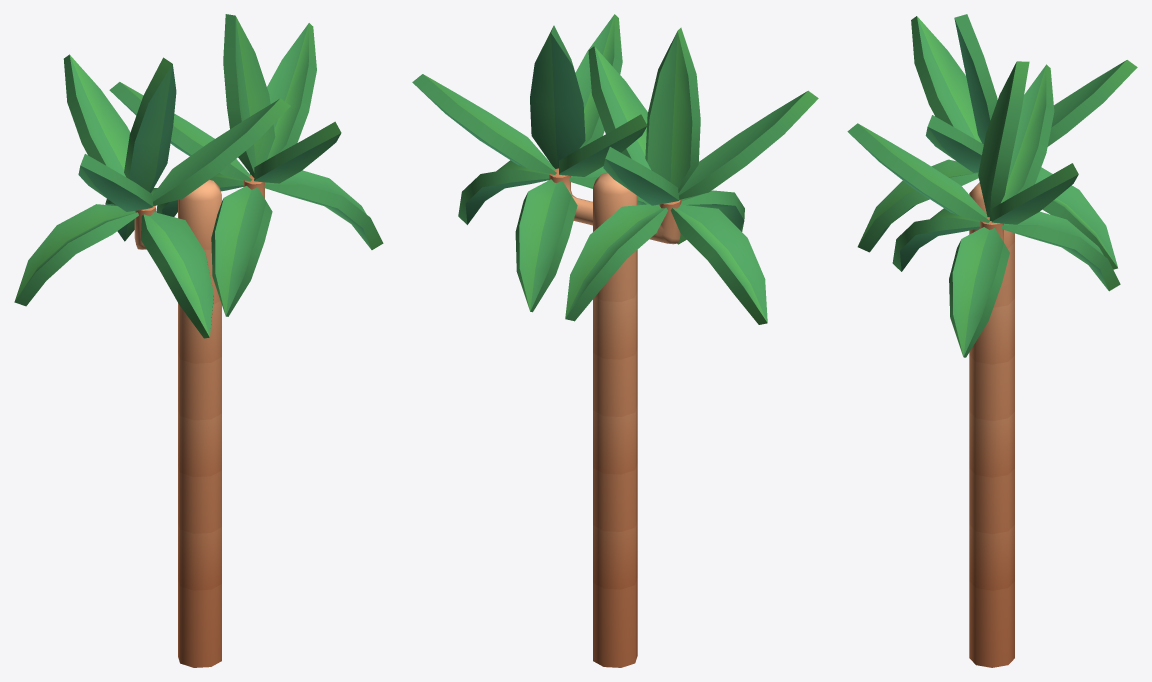
Rendered from Yucca Branch-4MZPAj8VHz.glb.
The picture shows the model from 3 angles, left to right: view 1: azimuth 30°, elevation 25°; view 2: azimuth 150°, elevation 25°; view 3: azimuth 270°, elevation 25°; orthographic projection.
Parts seen in each view (by area): view 1: yucca_branch_small_C; view 2: yucca_branch_small_C; view 3: yucca_branch_small_C.
Part boxes in pixels (x1,y1,x2,y2): yucca_branch_small_C: (14,14,383,667); yucca_branch_small_C: (412,14,818,667); yucca_branch_small_C: (847,14,1137,667).
Size of the model in its own units: 0.8549 by 1.51 by 0.6393.
1 material, 1 textured.
